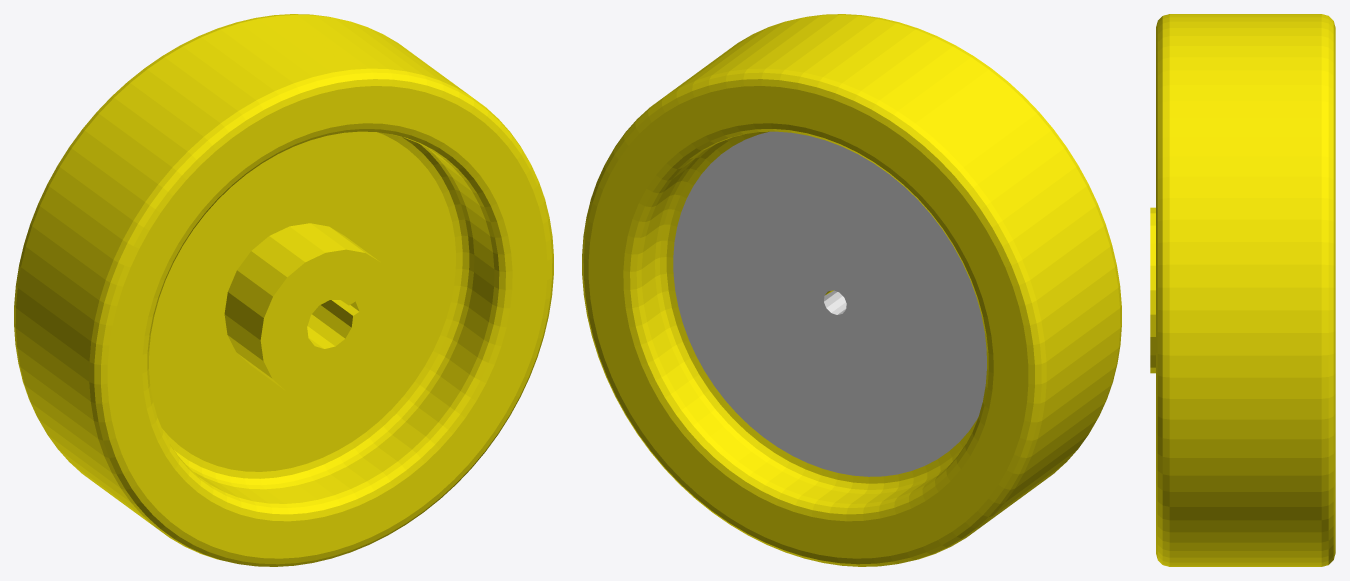
The model's file is Roda_L_Link.dae.
3 renders of one model, left to right at view 1: azimuth 30°, elevation 25°; view 2: azimuth 150°, elevation 25°; view 3: azimuth 270°, elevation 25°, orthographic. The views are drawn at different scales.
Visible parts, largest first — view 1: Roda L Link; view 2: Roda L Link; view 3: Roda L Link.
Part boxes in pixels (box(x1,y1,x2,y2)): Roda L Link: box(14, 14, 553, 566); Roda L Link: box(582, 14, 1121, 566); Roda L Link: box(1150, 14, 1335, 566).
Bounding box in the file's own units: 0.1999 × 0.067 × 0.1999.
